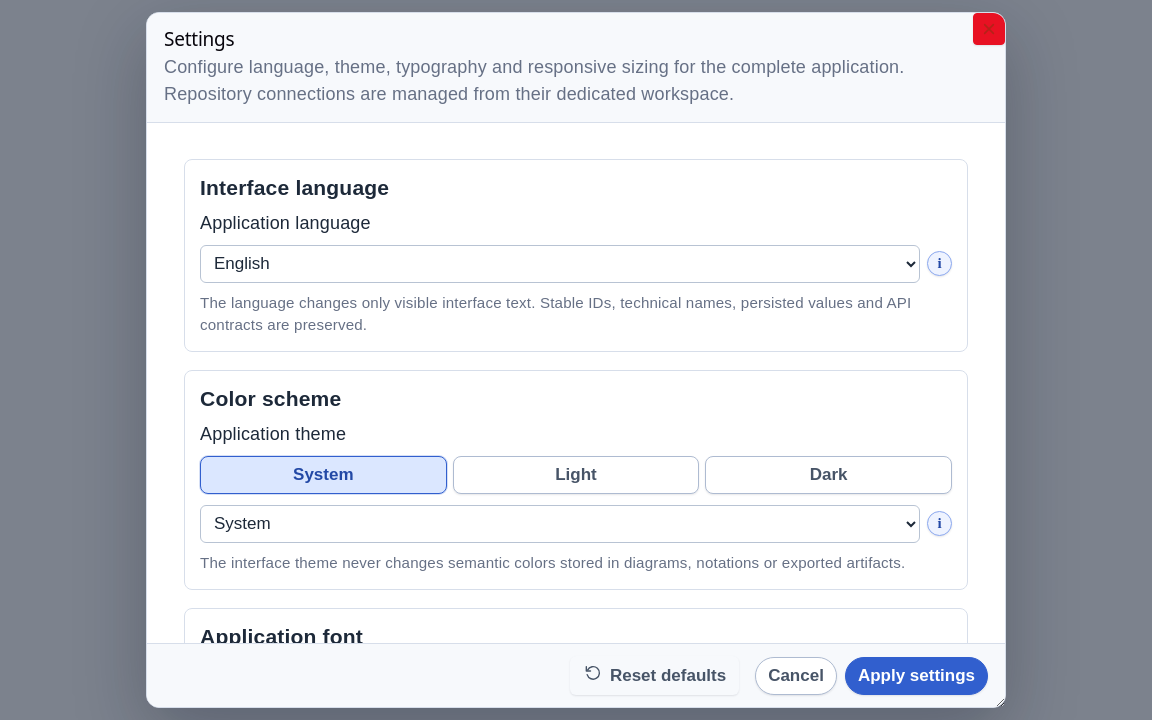
Test: SettingsDialog › switches the complete interface language without changing appearance settings
Select "Español" in the dropdown labelled "Application language": coordinates (560, 264) left=200, top=245, right=920, bottom=283
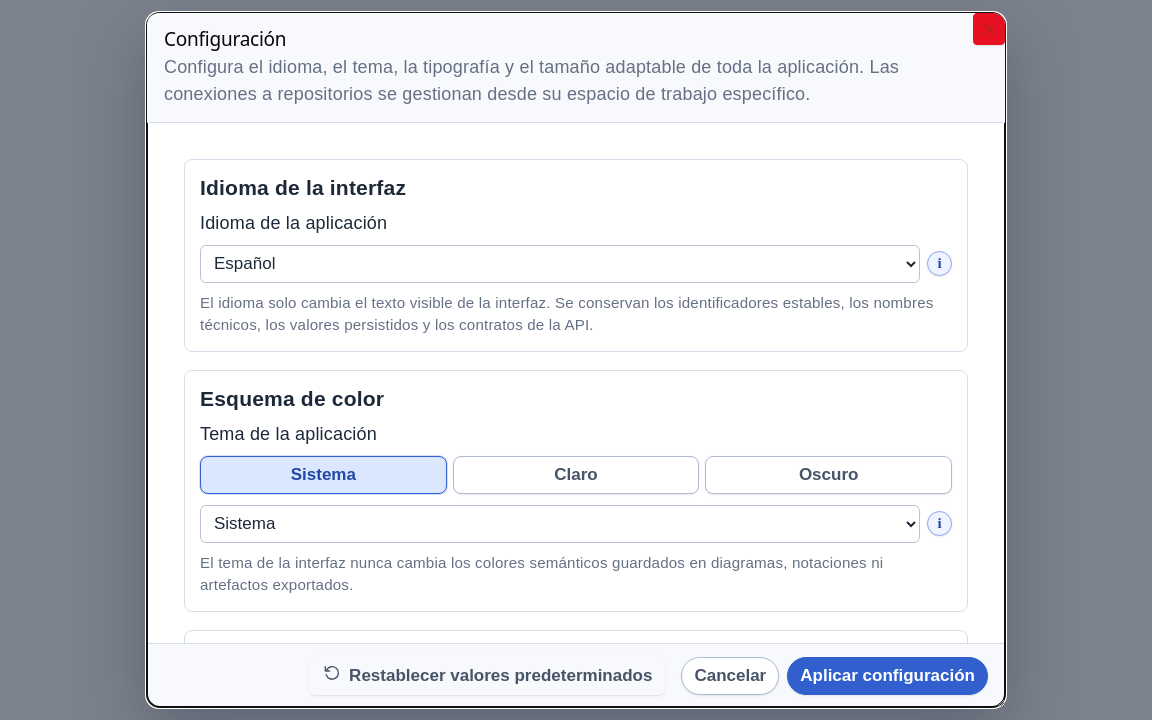
Now the heading "Configuración" is shown, box left=164, top=26, right=286, bottom=52
